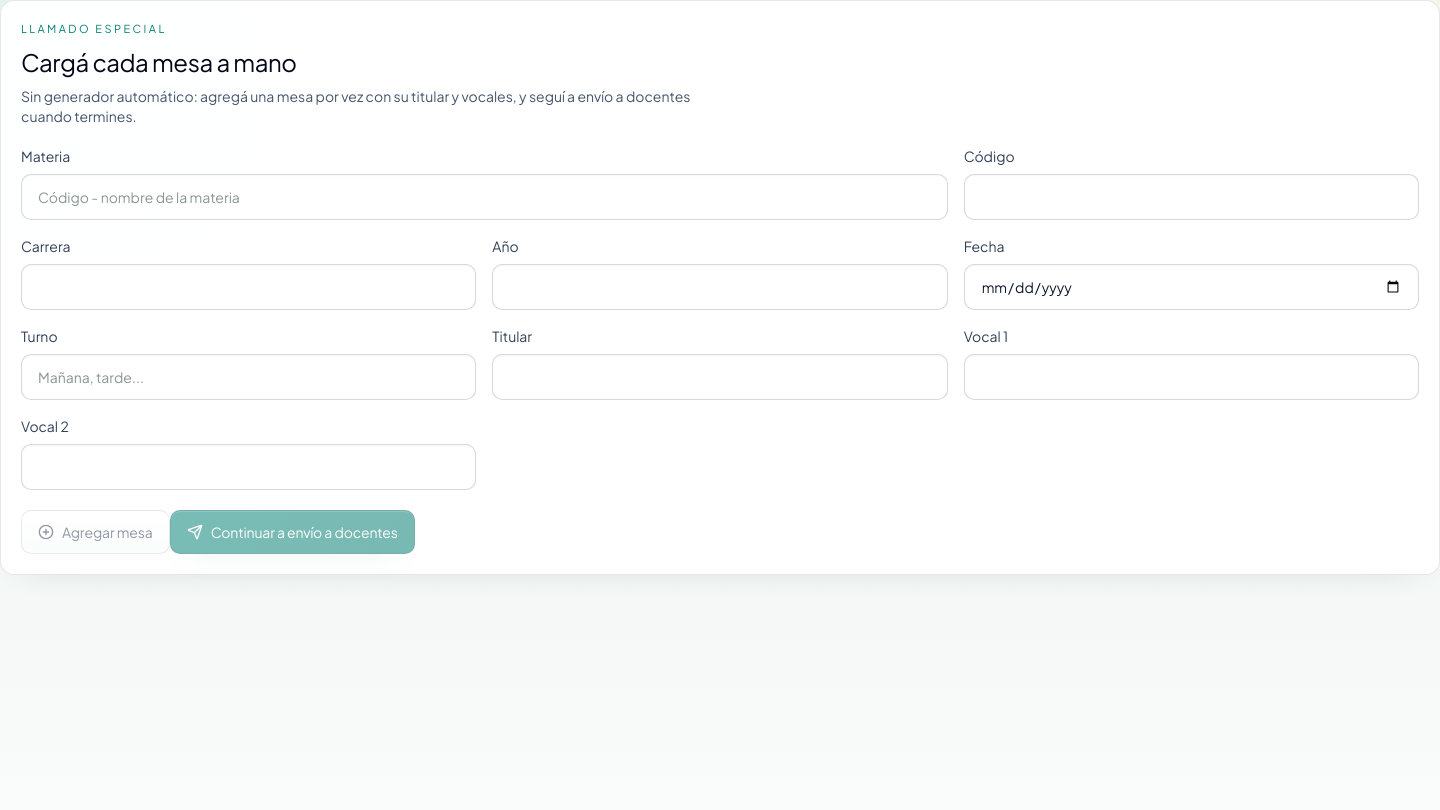
Test case: ManualMesaBuilderForm › quitar una mesa la saca de la lista
The image size is (1440, 810).
In the field labelled "Materia": {"x": 484, "y": 196} [21,174,948,220], type "ESP01 - Coloquio Final (Profesorado de Historia, 4° año)"
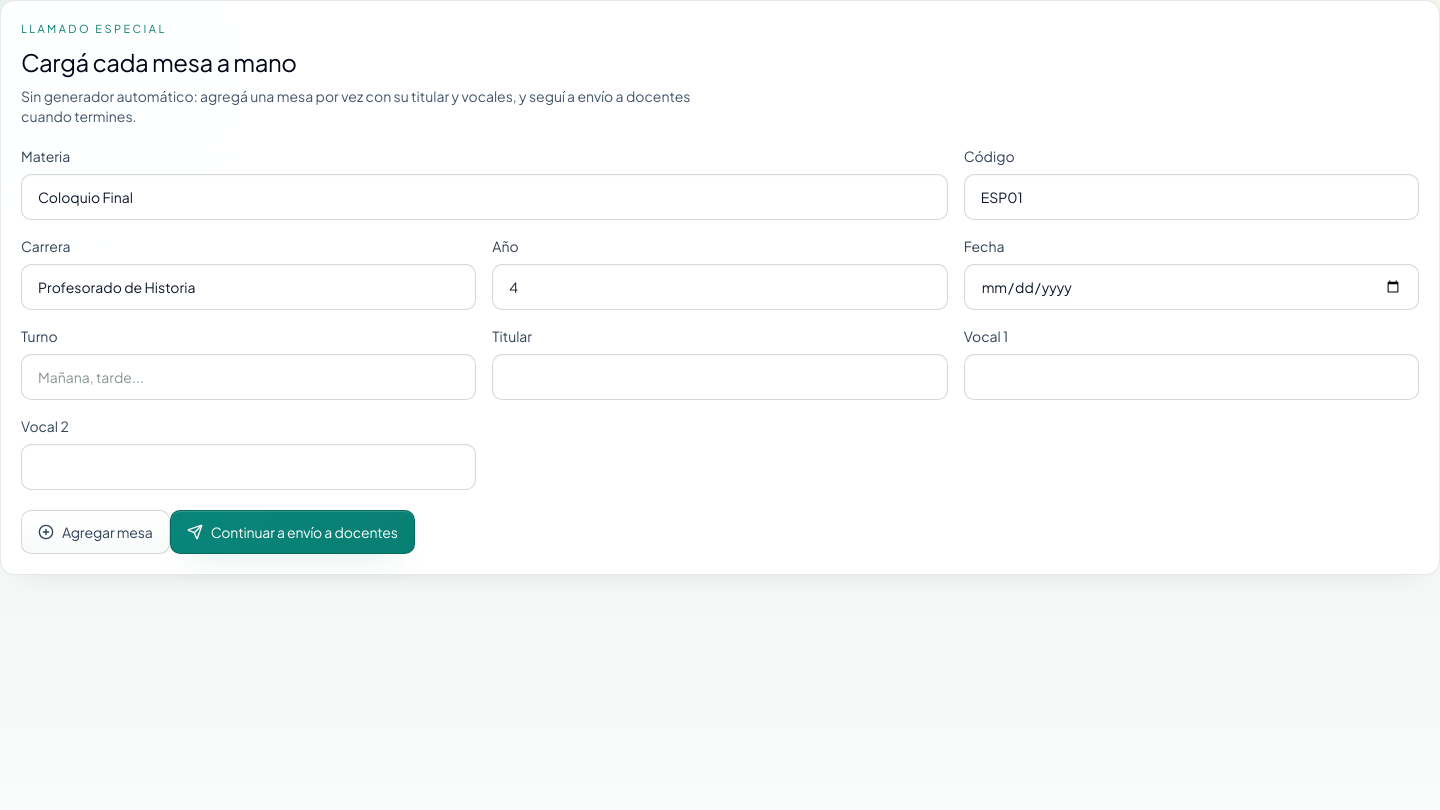
Click the button "Agregar mesa": {"x": 95, "y": 532} [21,510,170,554]
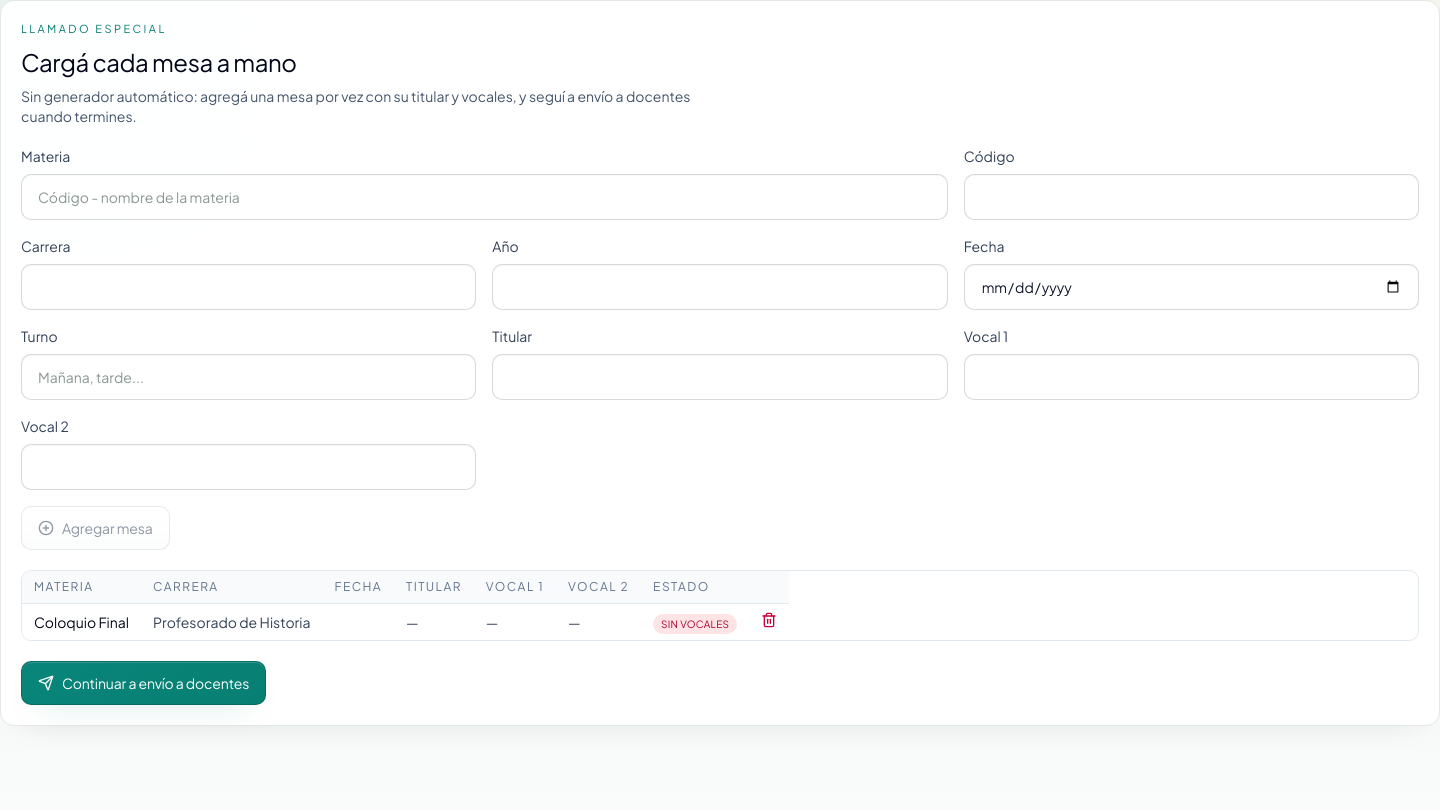
Now the text "Coloquio Final" is shown, box [22,603,141,640]
Click the button named "Quitar": {"x": 769, "y": 620} [761,612,777,628]
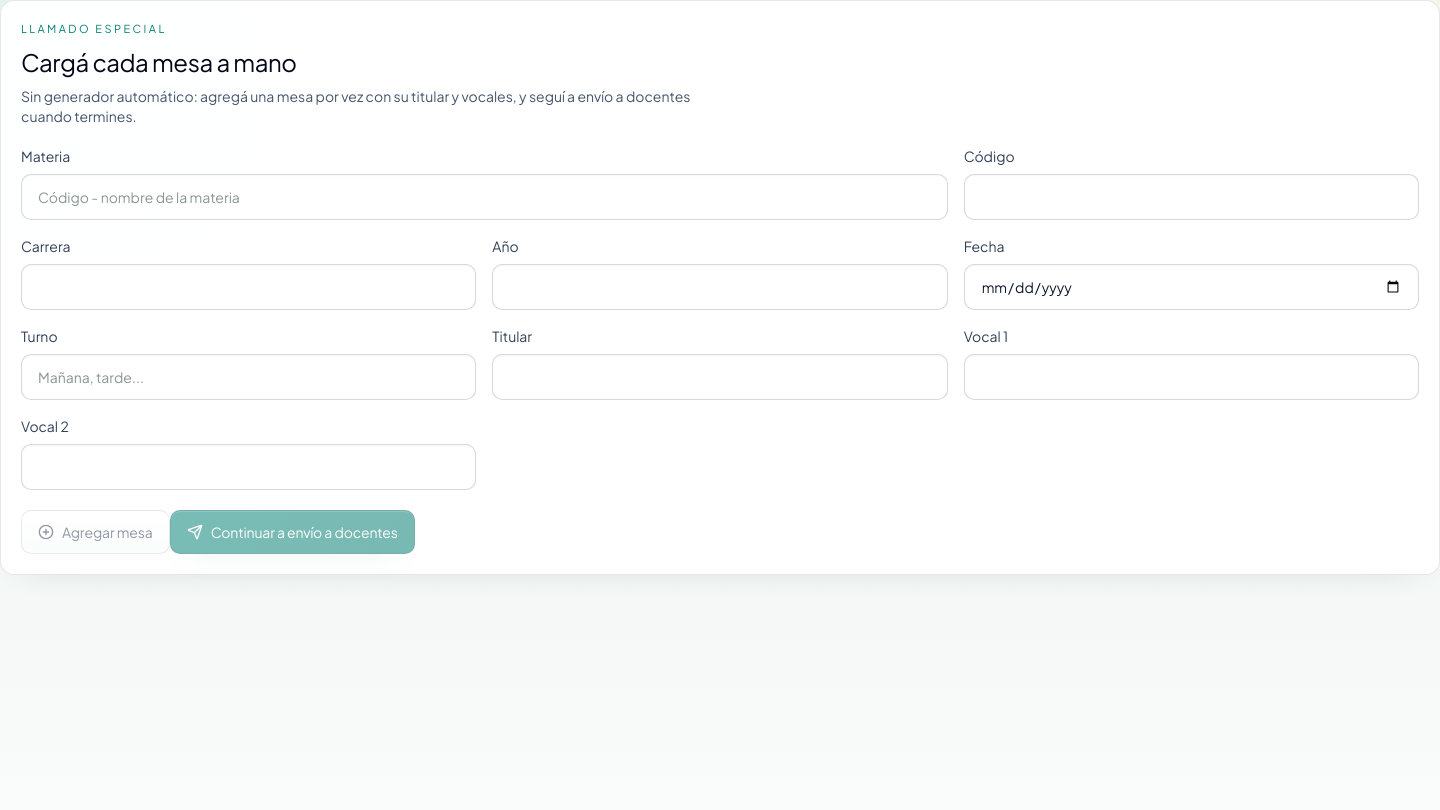
Now the text "Coloquio Final" is gone
